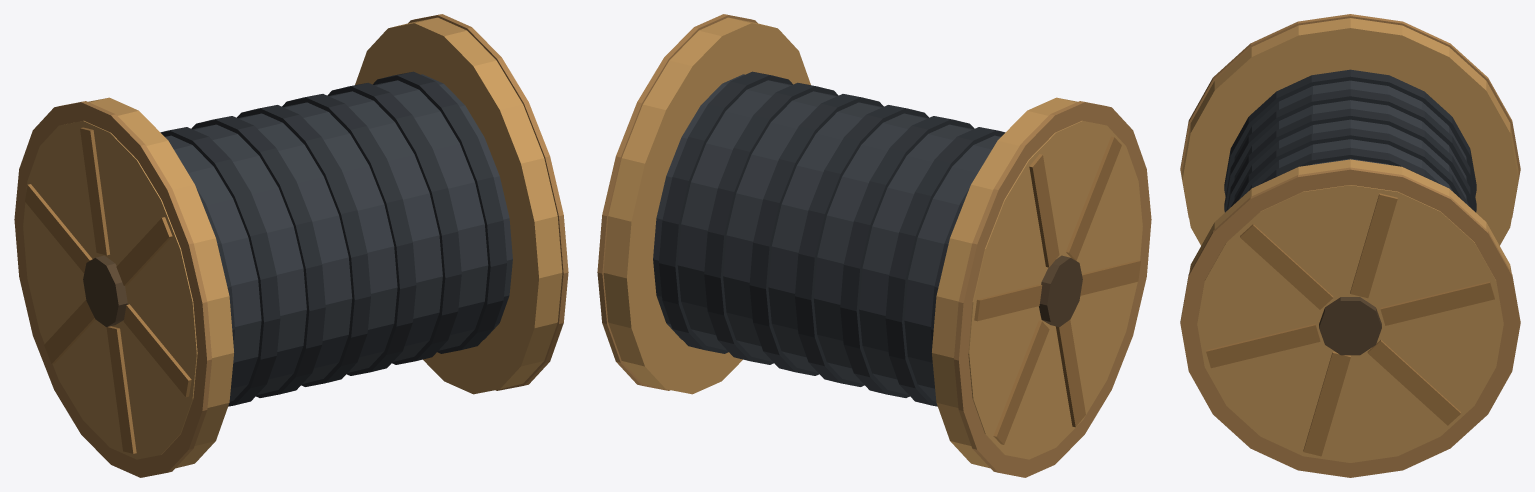
File: cable-spool.glb
3 renders of one model, left to right at view 1: azimuth 30°, elevation 25°; view 2: azimuth 150°, elevation 25°; view 3: azimuth 270°, elevation 25°, orthographic. The views are drawn at different scales.
Visible parts, largest first — view 1: cable-spool; view 2: cable-spool; view 3: cable-spool.
Part boxes in pixels (bbox=[...]): cable-spool: bbox=[14, 14, 568, 477]; cable-spool: bbox=[597, 14, 1151, 477]; cable-spool: bbox=[1180, 14, 1520, 477].
Bounding box in the file's own units: 1.85 × 1.62 × 1.62.
